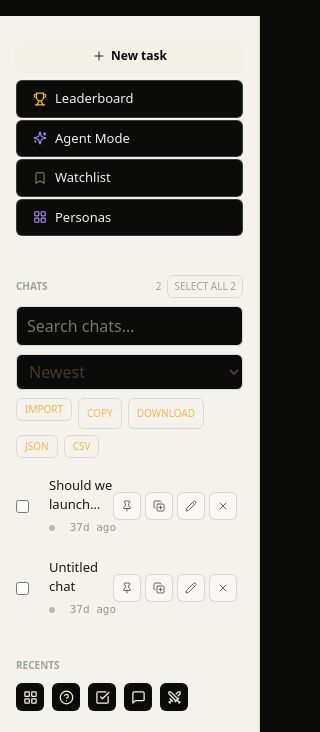
Test case: Sidebar recent chats › filters chats by last prompt
The image size is (320, 732).
Step 1. Type "launch" into the search field labelled "Search chats" → (130, 326), box x1=16 y1=306 x2=243 y2=346
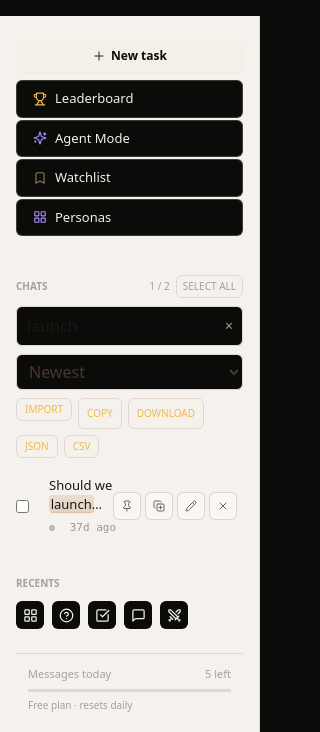
Expected: the button with aria-label "Open session: Should we launch today" is shown, x1=35 y1=466 x2=243 y2=546
Expected: the button "Untitled chat" is gone
